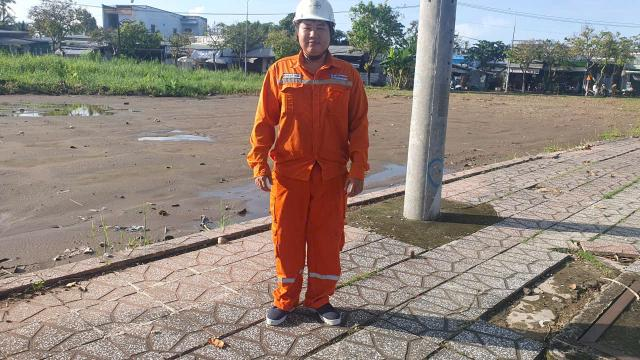helmet: (268, 0, 346, 35)
shoes: (251, 291, 291, 328), (307, 294, 343, 331)
